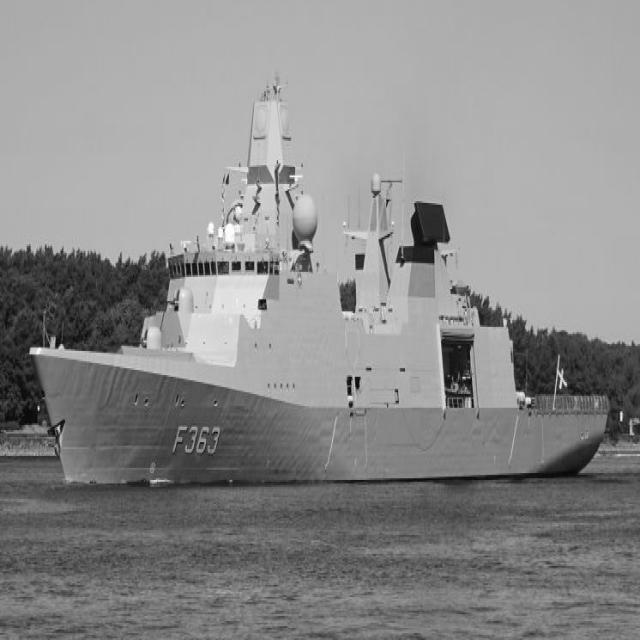Fragata: (18, 75, 617, 500)
